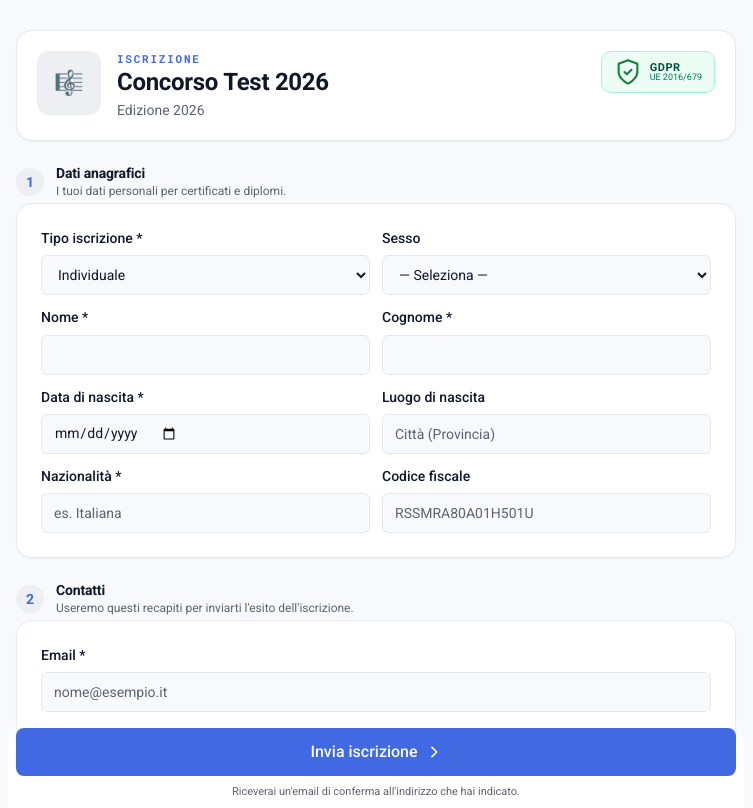
it: Iscrizione (form pubblico) › blocks submit and surfaces validation errors when required fields are empty
Check: the heading "Concorso Test 2026" is shown, box x1=117 y1=68 x2=329 y2=96
Click the button "Invia iscrizione" at (376, 752), box x1=16 y1=728 x2=736 y2=776
(page scrolled)
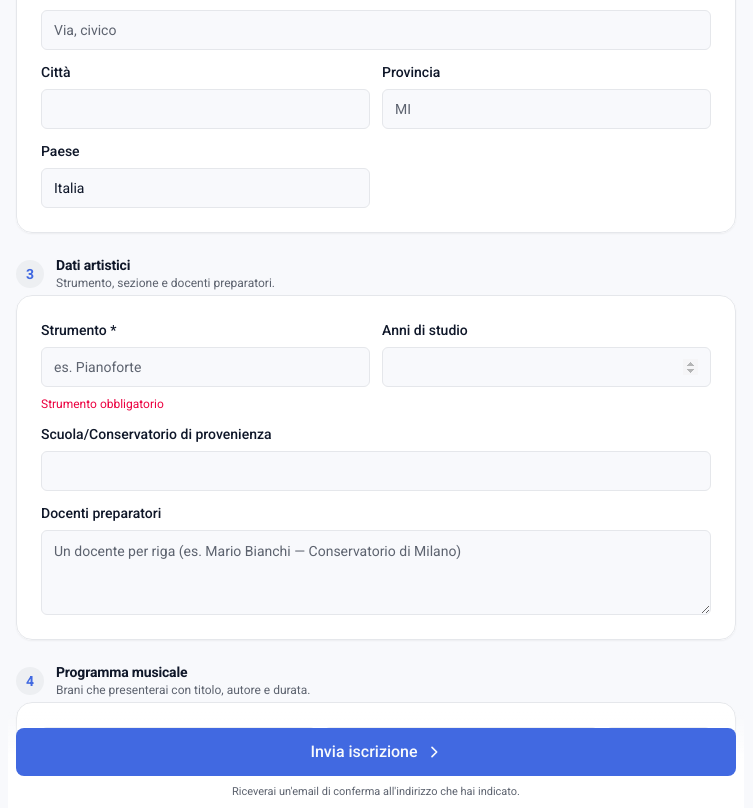
Check: the text "Strumento obbligatorio" is shown, box x1=41 y1=397 x2=164 y2=411
